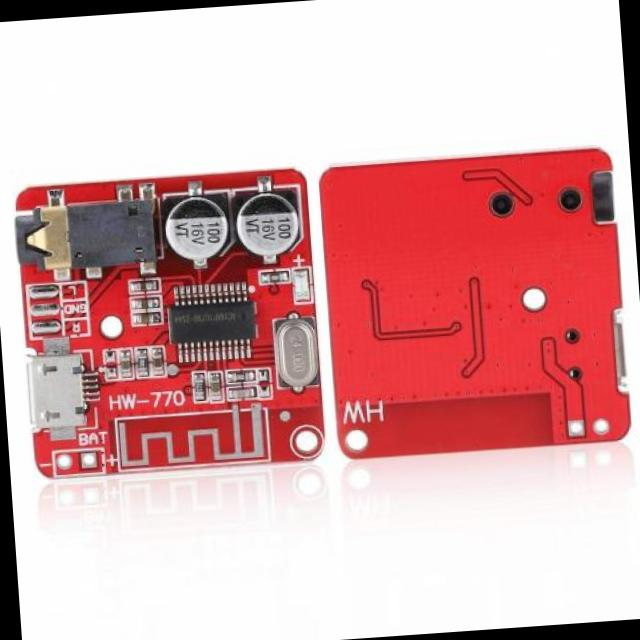IC: (170, 288, 260, 360)
LED: (294, 266, 310, 300)
capacitor: (232, 184, 311, 270), (162, 194, 234, 268), (130, 280, 156, 294), (132, 296, 156, 308), (229, 388, 250, 400), (136, 311, 155, 324), (208, 376, 220, 396), (120, 354, 132, 373), (151, 352, 162, 370)
connector: (16, 198, 154, 278), (29, 356, 90, 436)
resistor: (264, 270, 282, 284), (232, 370, 250, 382), (192, 378, 202, 396), (138, 354, 147, 371)
